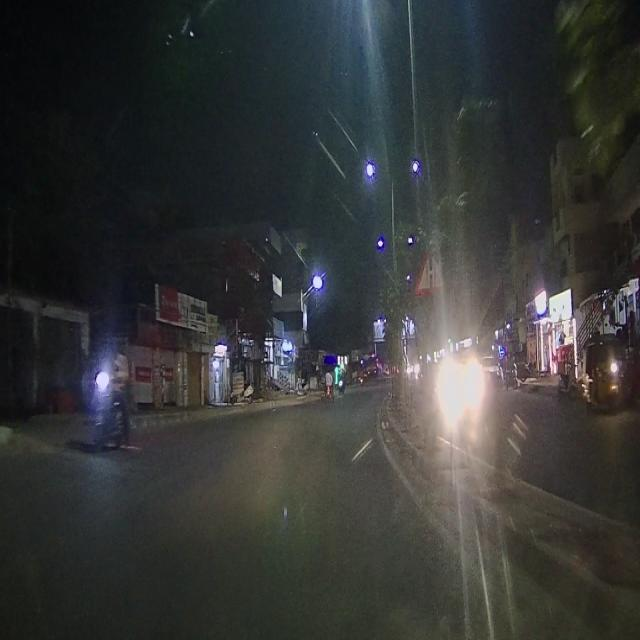gap-in-median: (416, 242, 446, 296)
